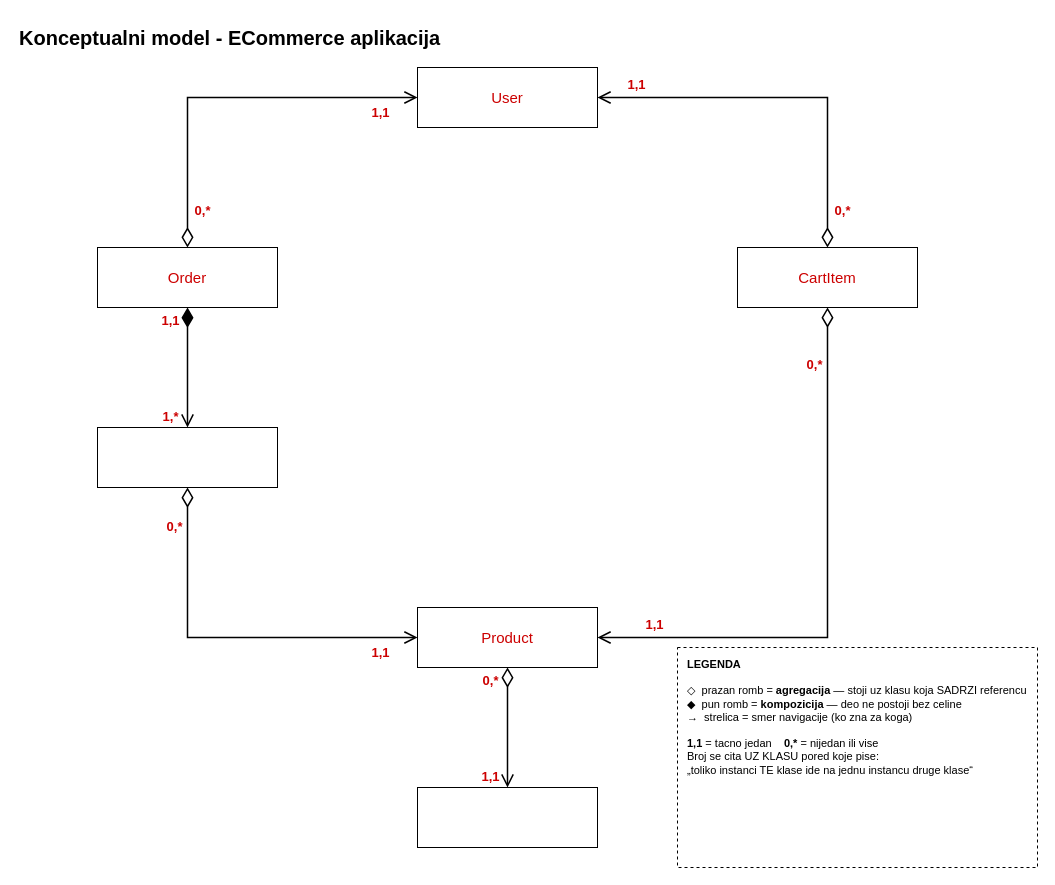
Some shapes in this 1055 by 885 pixel diagram are drawn without their labels. Here are the shapes that lost their labels. From the top down, the box of each, then its label:
(96, 426, 278, 488): OrderItem
(416, 786, 598, 848): Category
